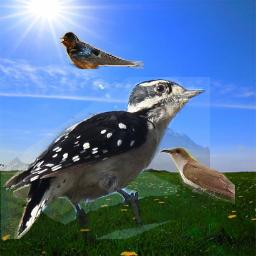Cuckoo: (158, 147, 235, 204)
Swallow: (60, 31, 144, 69)
Woodpecker: (1, 77, 210, 239)
